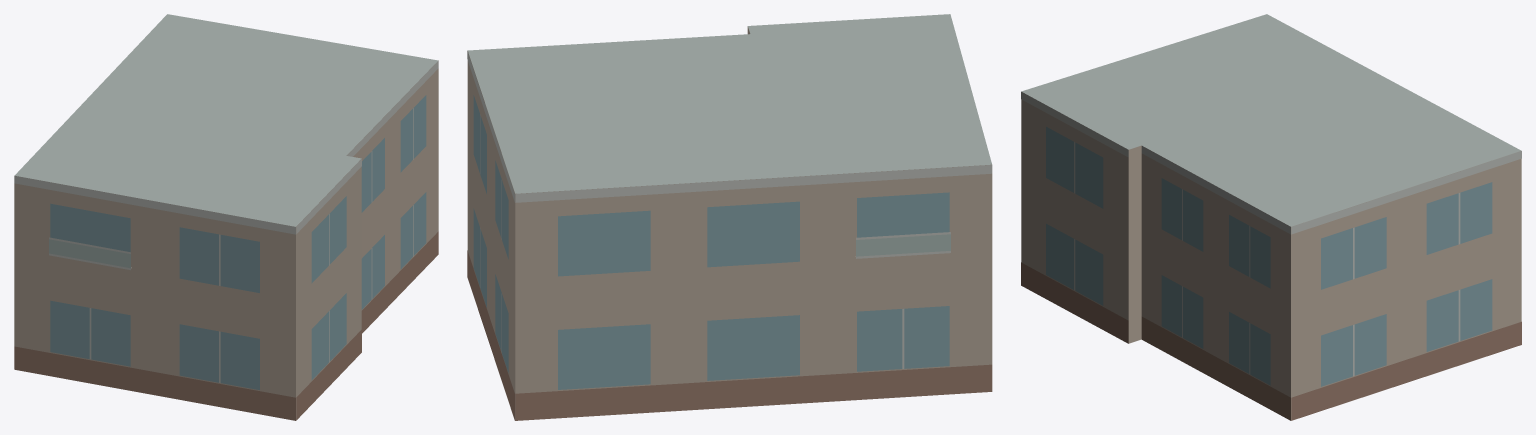
Rendered from survey-upis-32655218.glb.
3 views of the same model, side by side, from view 1: azimuth 30°, elevation 25°; view 2: azimuth 150°, elevation 25°; view 3: azimuth 270°, elevation 25° (orthographic). The views are drawn at different scales.
Parts seen in each view (by area): view 1: survey-upis-32655218.tmp; view 2: survey-upis-32655218.tmp; view 3: survey-upis-32655218.tmp.
Boxes of the visible parts, bbox=[...] form: survey-upis-32655218.tmp: bbox=[14, 14, 438, 420]; survey-upis-32655218.tmp: bbox=[467, 14, 992, 420]; survey-upis-32655218.tmp: bbox=[1021, 14, 1521, 420].
Size of the model in its own units: 14.36 by 6.1 by 14.28.
